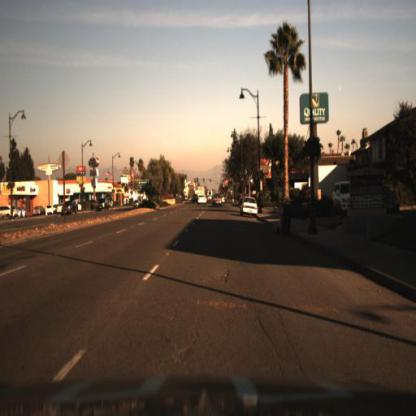car: (327, 173, 361, 219), (239, 196, 259, 220), (61, 198, 78, 219), (94, 195, 112, 213), (30, 205, 46, 221), (211, 193, 223, 211), (196, 193, 209, 209), (45, 202, 57, 216), (55, 203, 66, 216)
